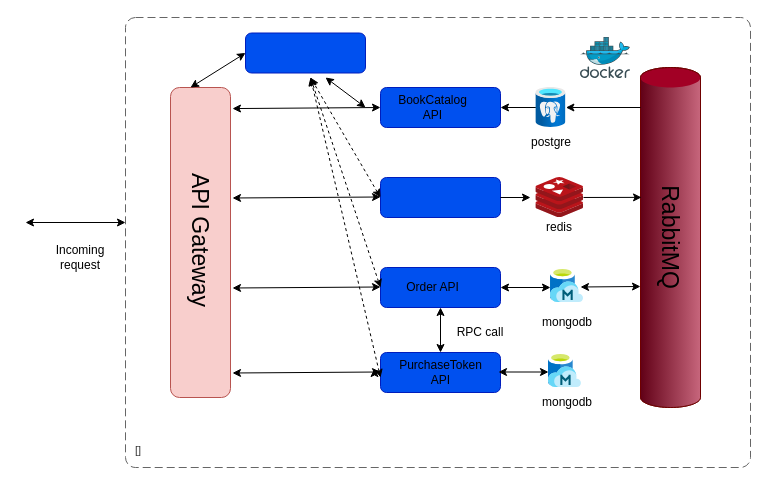
Image size: 768x485. Some labels were removed from this diagram. Here are the shapes that lost their labels. From the top down, the box of each, then its label:
(244, 32, 366, 73): Identity server
(380, 176, 500, 218): Basket API
